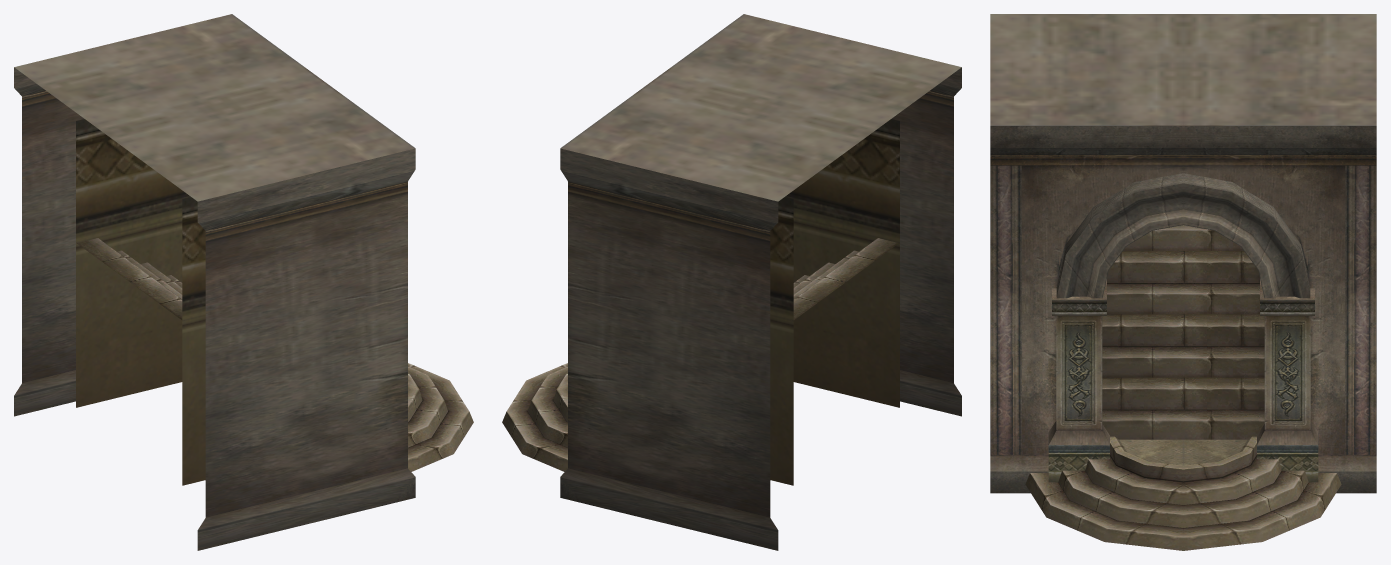
Rendered from fxdx_csd_01.FBX.
The picture shows the model from 3 angles, left to right: view 1: azimuth 30°, elevation 25°; view 2: azimuth 150°, elevation 25°; view 3: azimuth 270°, elevation 25°; orthographic projection. The views are drawn at different scales.
Parts seen in each view (by area): view 1: fxdx_csd_01; view 2: fxdx_csd_01; view 3: fxdx_csd_01.
Part boxes in pixels (left/top/right/bottom): fxdx_csd_01: left=14, top=14, right=473, bottom=550; fxdx_csd_01: left=502, top=14, right=961, bottom=550; fxdx_csd_01: left=990, top=14, right=1376, bottom=550.
Bounding box in the file's own units: 626 × 601 × 573.
